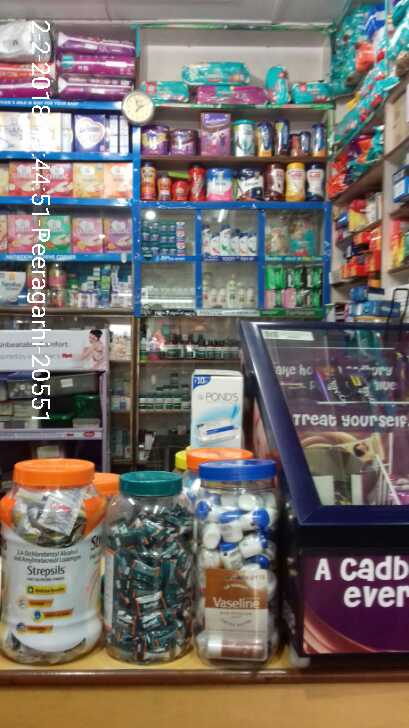vicks: (141, 218, 190, 260)
